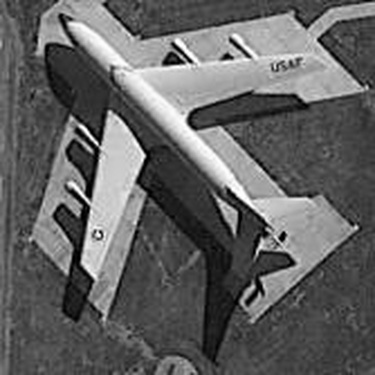airplane: (34, 3, 338, 327)
